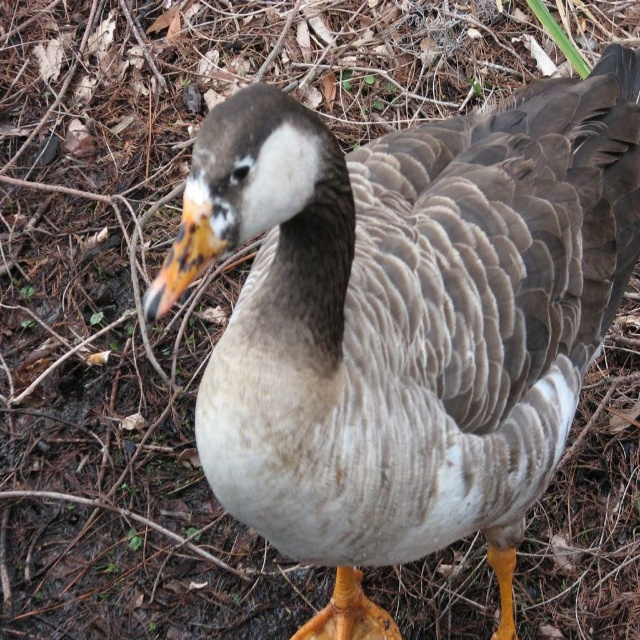Goose: (138, 43, 640, 639)
